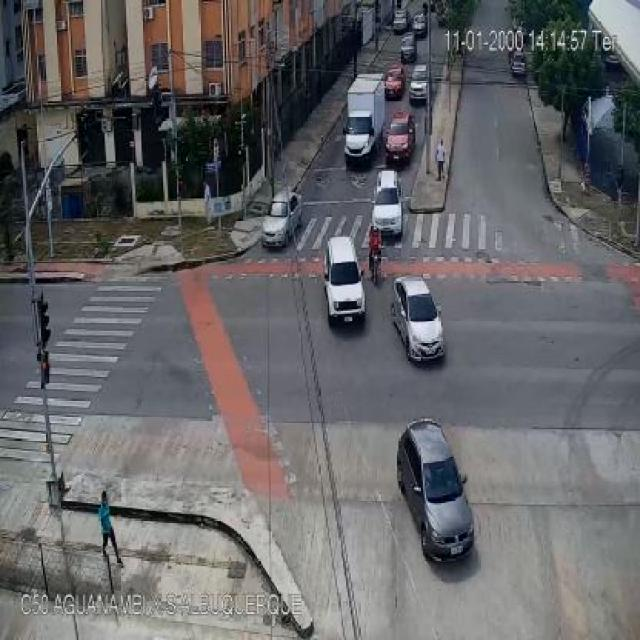Car: (384, 407, 482, 572), (398, 278, 458, 378), (260, 182, 303, 258), (371, 166, 407, 242), (410, 60, 435, 102), (386, 62, 403, 96), (398, 33, 417, 62), (413, 9, 427, 38), (395, 6, 408, 37)
Cycle: (367, 229, 388, 299)
Truck: (340, 68, 384, 170)
Van: (385, 102, 418, 174)
